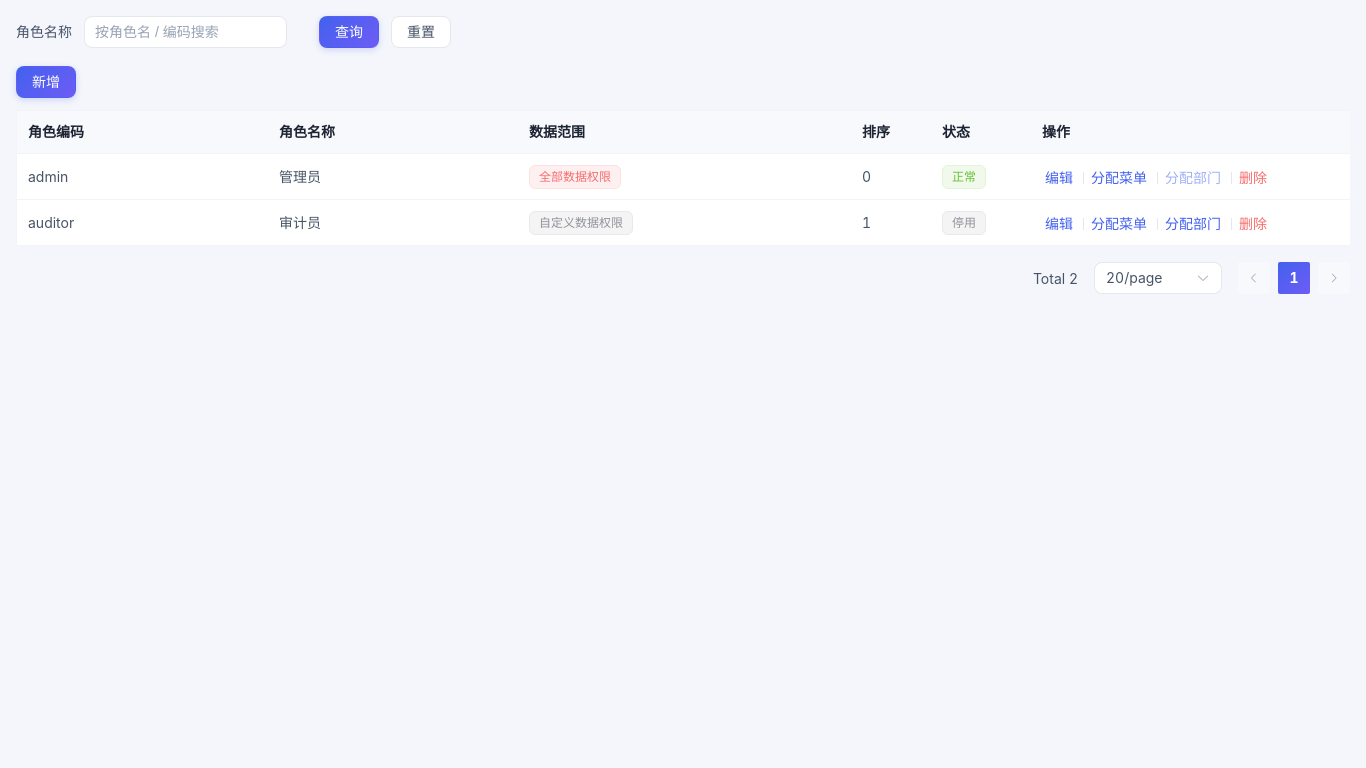
角色管理页 › 点新增 → 打开表单对话框
What coordinates should you click on to do the following:
click the button "新增"
I would click on:
 (46, 82)
Its box is [16,66,76,98].
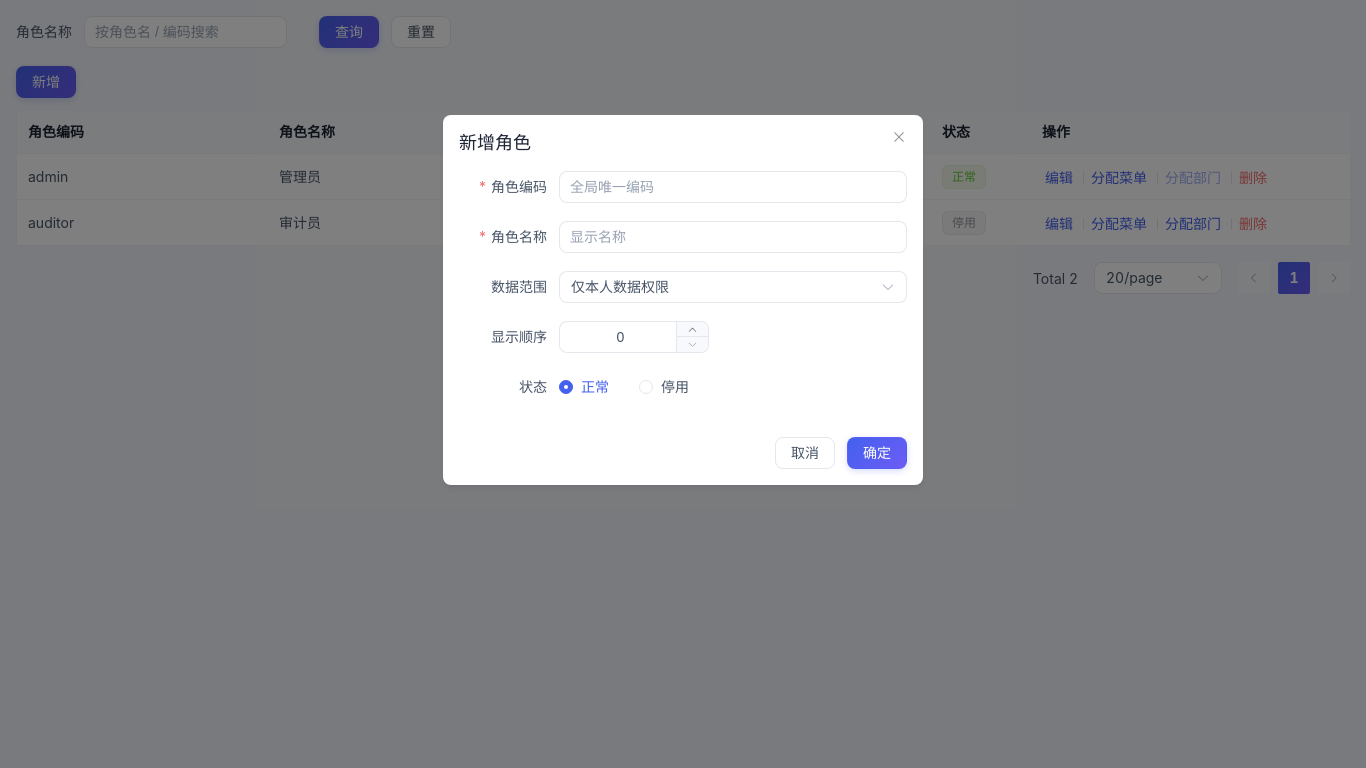
expect the text "新增角色" is shown: met, box [459,132,531,153]
